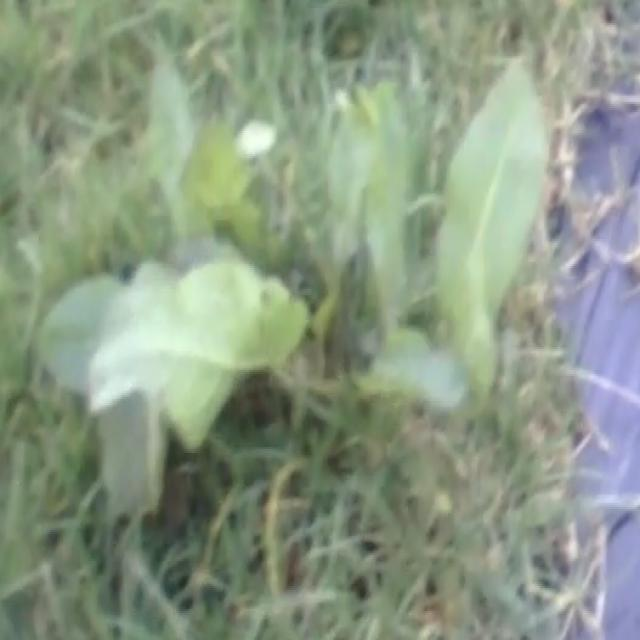organic waste: (253, 52, 592, 499), (39, 57, 340, 523)
